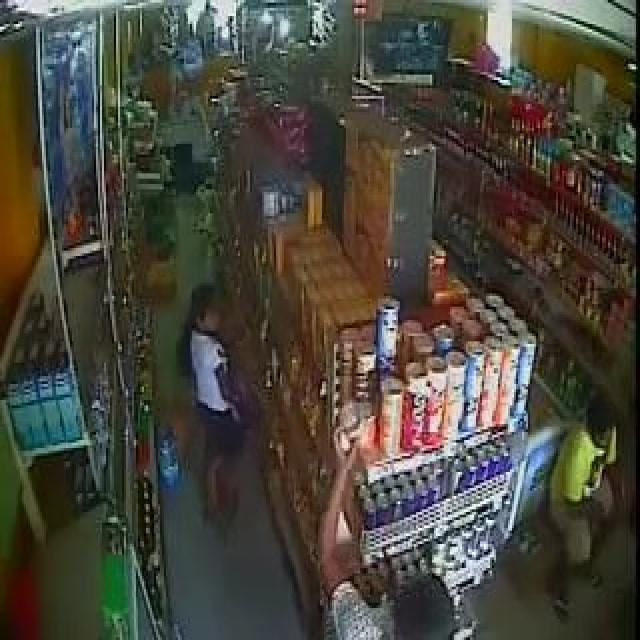Normal: (306, 391, 485, 640), (166, 266, 273, 535), (540, 359, 637, 632)
